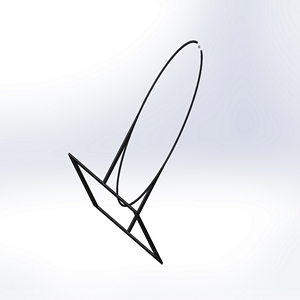circle: (67, 38, 205, 265)
